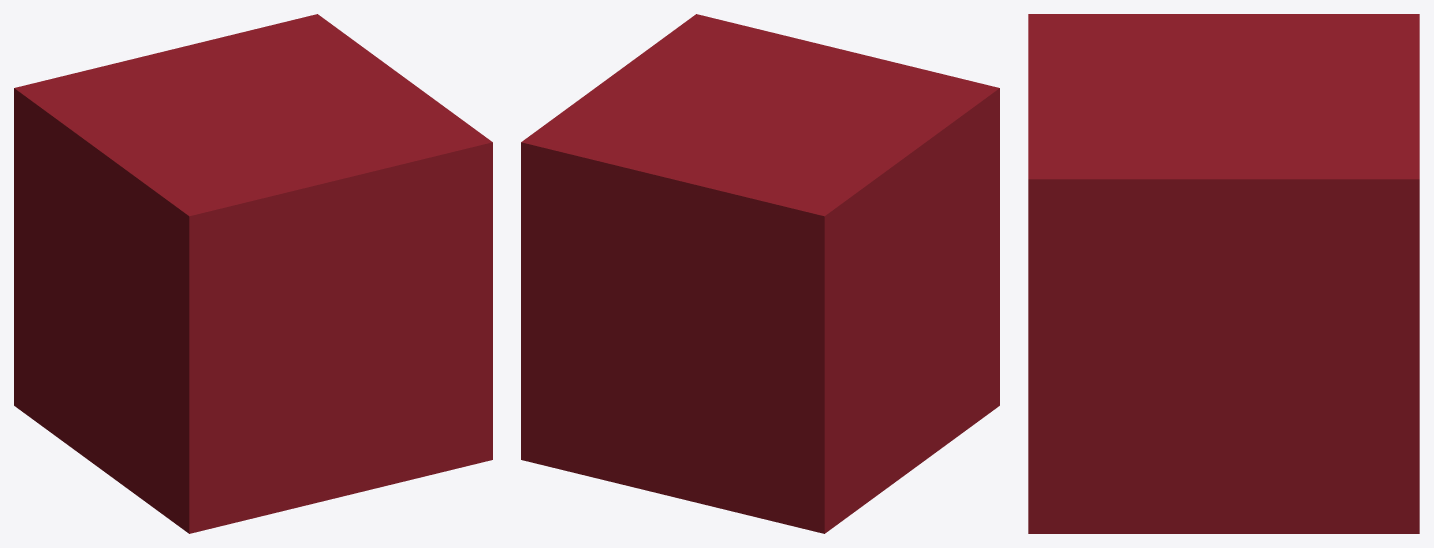
Rendered from MDL_EndPoint_Tile.fbx.
3 views of the same model, side by side, from view 1: azimuth 30°, elevation 25°; view 2: azimuth 150°, elevation 25°; view 3: azimuth 270°, elevation 25° (orthographic). The views are drawn at different scales.
Visible parts, largest first — view 1: LowPoly.017; view 2: LowPoly.017; view 3: LowPoly.017.
Part boxes in pixels (left/top/right/bottom): LowPoly.017: left=14, top=14, right=492, bottom=533; LowPoly.017: left=521, top=14, right=999, bottom=533; LowPoly.017: left=1028, top=14, right=1419, bottom=533.
Bounding box in the file's own units: 100 × 100 × 100.
